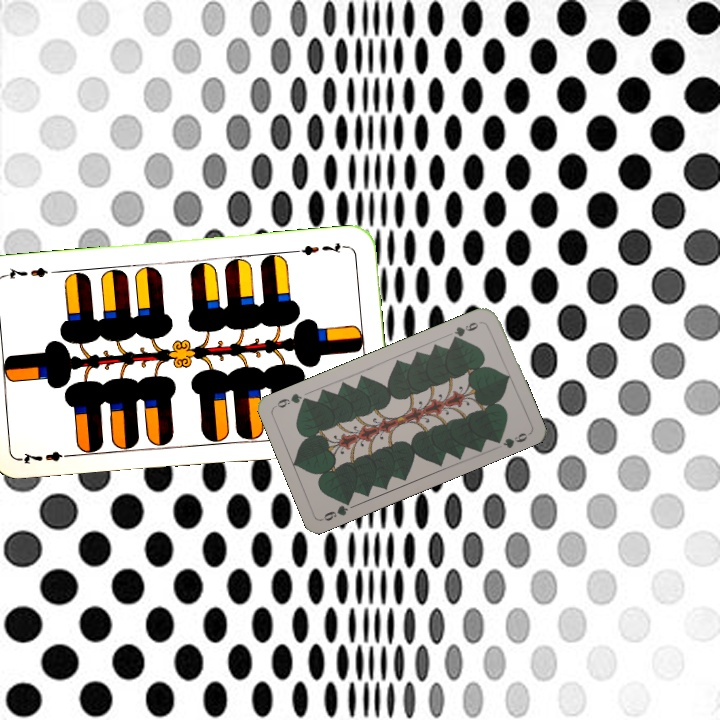E7: (291, 238, 350, 258), (18, 447, 77, 467)
G9: (318, 495, 354, 523), (448, 317, 485, 343)
